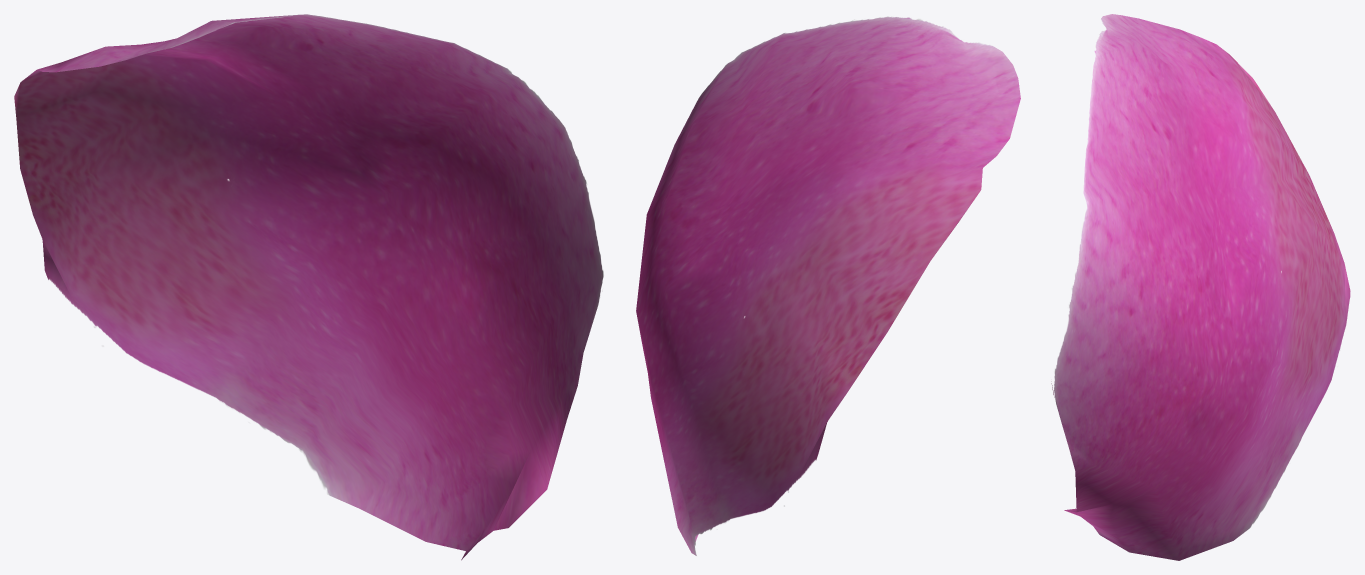
File: flower1.glb
3 views of the same model, side by side, from view 1: azimuth 30°, elevation 25°; view 2: azimuth 150°, elevation 25°; view 3: azimuth 270°, elevation 25° (orthographic). The views are drawn at different scales.
Parts seen in each view (by area): view 1: 넓적동글 (Copy); view 2: 넓적동글 (Copy); view 3: 넓적동글 (Copy).
Part boxes in pixels (left/top/right/bottom): 넓적동글 (Copy): left=14, top=14, right=603, bottom=560; 넓적동글 (Copy): left=636, top=16, right=1020, bottom=555; 넓적동글 (Copy): left=1051, top=14, right=1350, bottom=560.
Bounding box in the file's own units: 33.87 × 43.55 × 26.59.
Materials: 1 (1 with a texture image).
